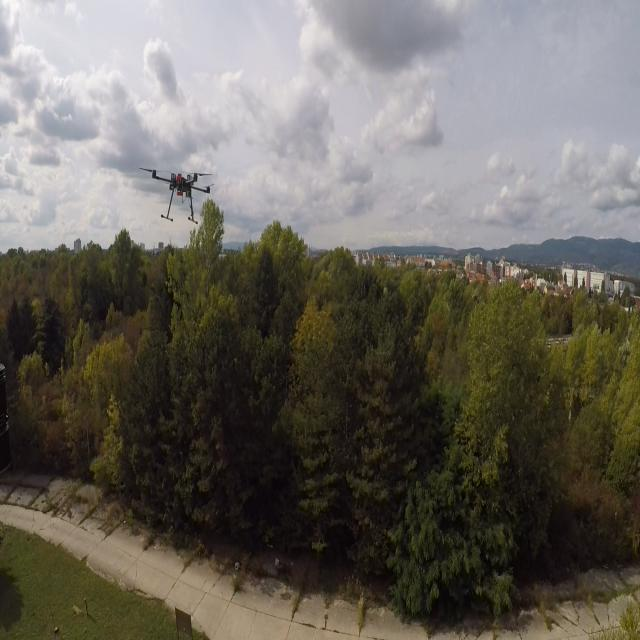UAV: (136, 157, 226, 233)
